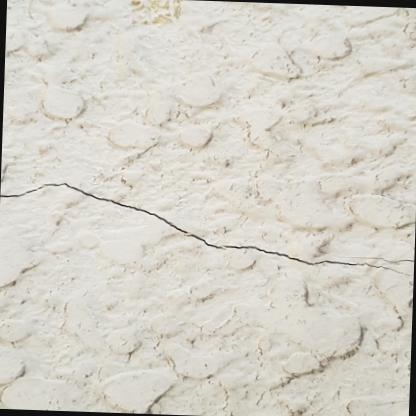crack: (0, 181, 413, 276), (336, 255, 414, 262)
